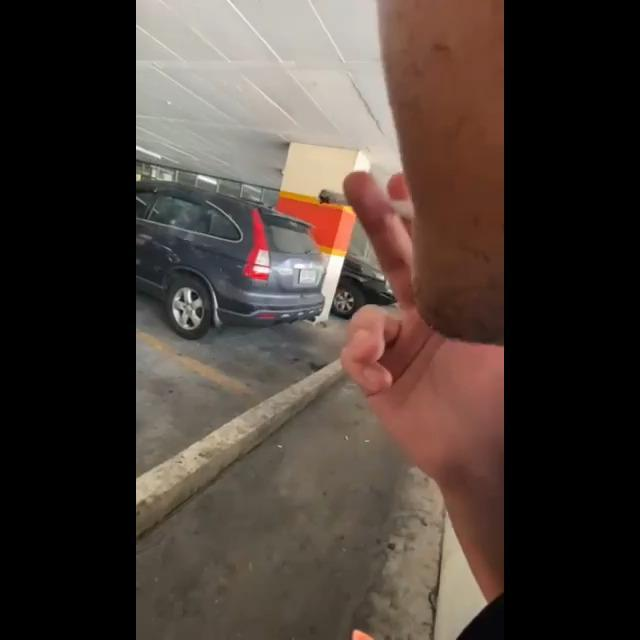rokok: (310, 177, 424, 233)
